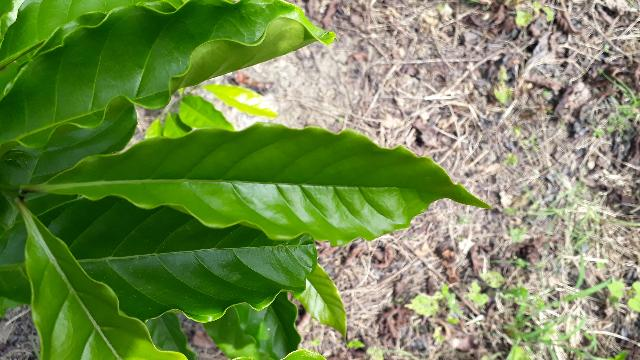healthy: (47, 120, 493, 247)
